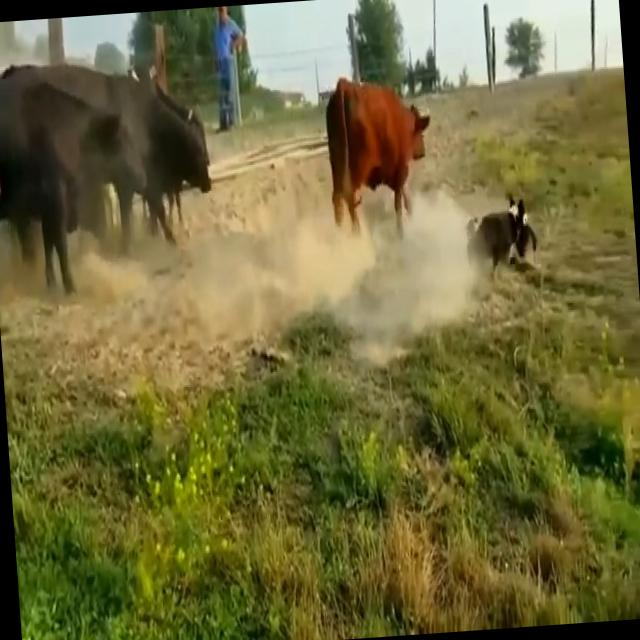cow: (326, 78, 430, 233)
